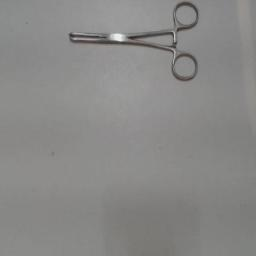Allis Tissue Forceps: (62, 1, 202, 91)
